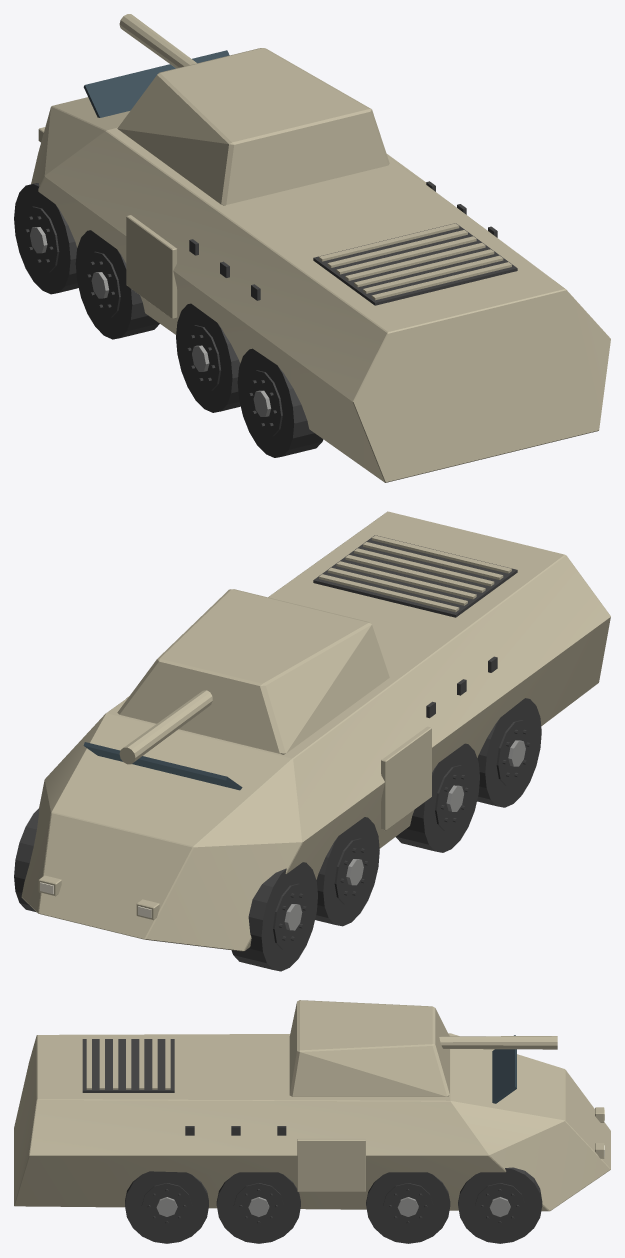
Rendered from rus_mor_nonasvk.glb.
3 views of the same model, one above another, from view 1: azimuth 30°, elevation 25°; view 2: azimuth 150°, elevation 25°; view 3: azimuth 270°, elevation 25° (orthographic). The views are drawn at different scales.
Visible parts, largest first — view 1: body, turret, wheel_6, wheel_2, wheel_0, wheel_4, barrel; view 2: body, turret, wheel_0, wheel_4, wheel_6, wheel_2, barrel, wheel_1; view 3: body, turret, wheel_1, wheel_7, wheel_5, wheel_3, barrel.
Part boxes in pixels (x1=…): body: x1=31, y1=50, x2=610, y2=482; turret: x1=117, y1=48, x2=389, y2=205; wheel_6: x1=237, y1=348, x2=323, y2=457; wheel_2: x1=75, y1=230, x2=159, y2=339; wheel_0: x1=14, y1=183, x2=78, y2=294; wheel_4: x1=176, y1=303, x2=240, y2=412; barrel: x1=119, y1=14, x2=196, y2=68; body: x1=21, y1=511, x2=610, y2=951; turret: x1=117, y1=589, x2=389, y2=754; wheel_0: x1=231, y1=862, x2=317, y2=971; wheel_4: x1=396, y1=743, x2=479, y2=852; wheel_6: x1=477, y1=698, x2=541, y2=807; wheel_2: x1=315, y1=817, x2=379, y2=926; barrel: x1=119, y1=690, x2=212, y2=764; wheel_1: x1=14, y1=808, x2=39, y2=912; body: x1=14, y1=1033, x2=610, y2=1211; turret: x1=289, y1=1000, x2=449, y2=1096; wheel_1: x1=458, y1=1167, x2=542, y2=1243; wheel_7: x1=125, y1=1171, x2=208, y2=1243; wheel_5: x1=216, y1=1172, x2=300, y2=1243; wheel_3: x1=366, y1=1172, x2=450, y2=1243; barrel: x1=439, y1=1036, x2=557, y2=1049.
Bounding box in the file's own units: 2.92 × 2.5 × 7.79.
